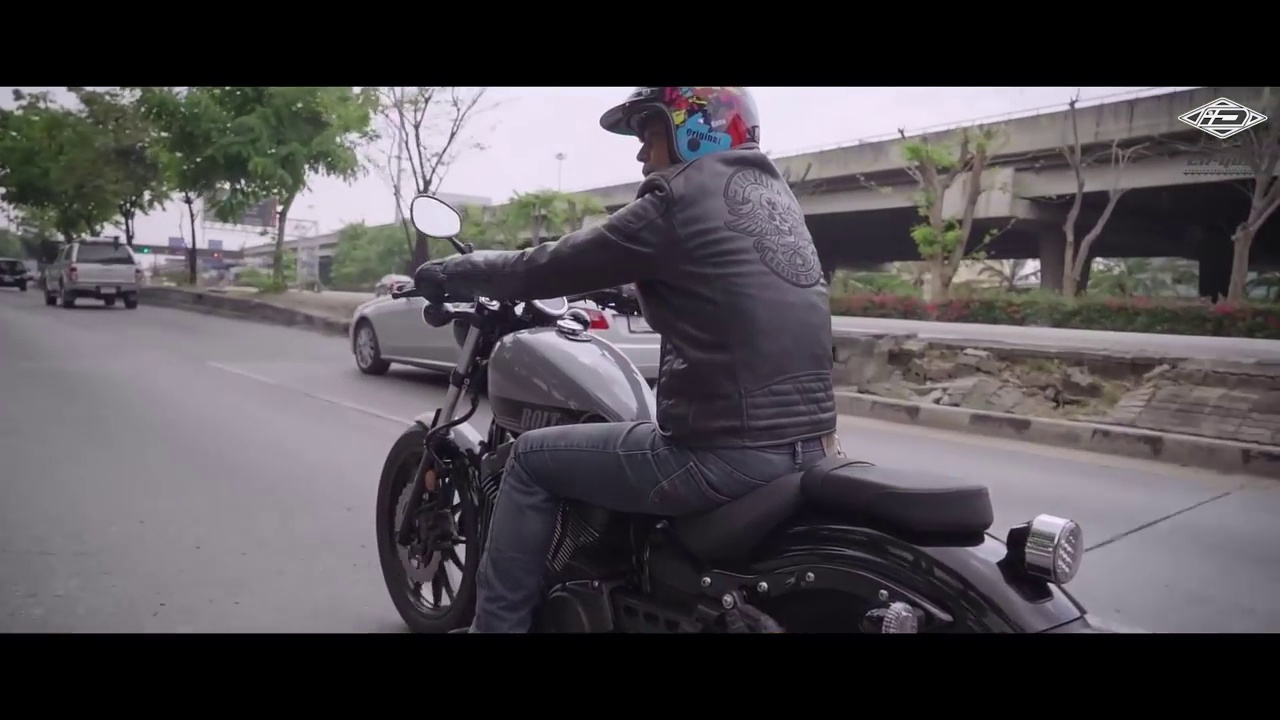helmet: (589, 87, 770, 153)
